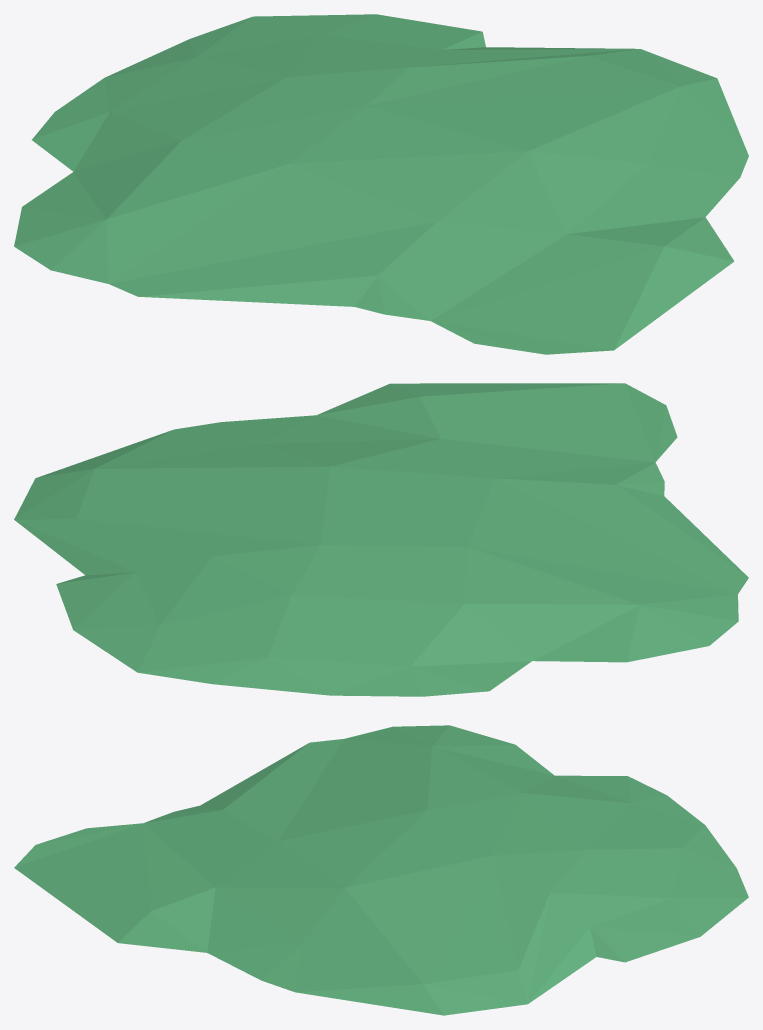
File: GrassPatchLarge_02.glb
3 renders of one model, top to bottom at view 1: azimuth 30°, elevation 25°; view 2: azimuth 150°, elevation 25°; view 3: azimuth 270°, elevation 25°, orthographic. The views are drawn at different scales.
Visible parts, largest first — view 1: GrassPatchLarge_02; view 2: GrassPatchLarge_02; view 3: GrassPatchLarge_02.
Boxes of the visible parts, x1=… form: GrassPatchLarge_02: x1=14, y1=14, x2=748, y2=354; GrassPatchLarge_02: x1=14, y1=383, x2=748, y2=696; GrassPatchLarge_02: x1=14, y1=725, x2=748, y2=1015.
Size of what is drawn, in the model's own units: 6.06 by 0.309 by 6.49.
1 material, 1 textured.
